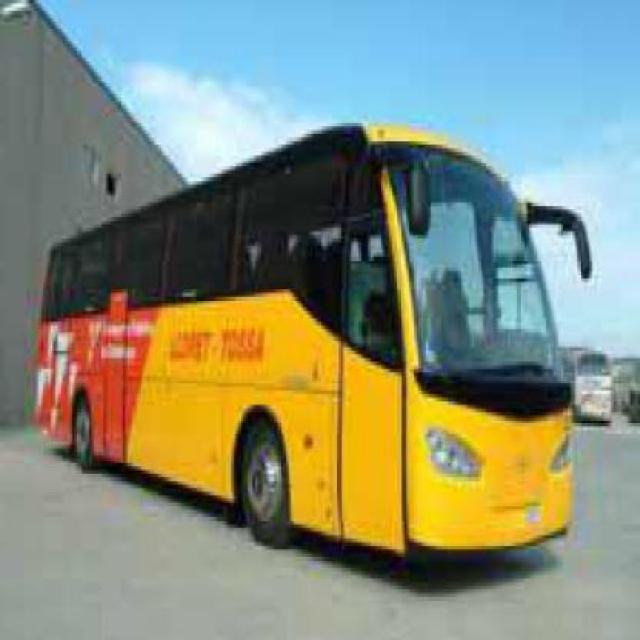bus: (32, 121, 592, 568)
